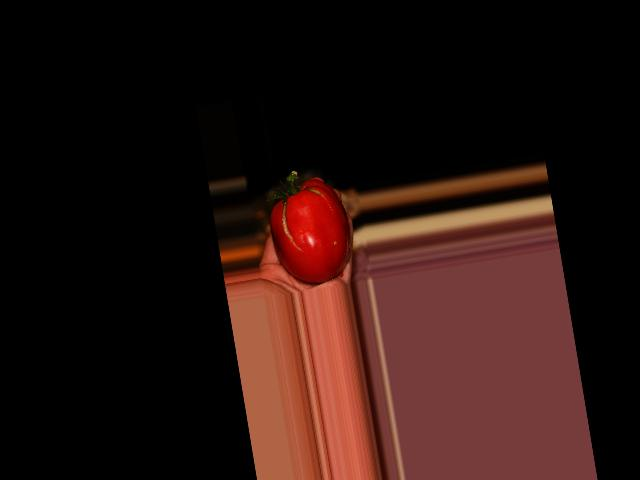tomato: (265, 173, 357, 289)
